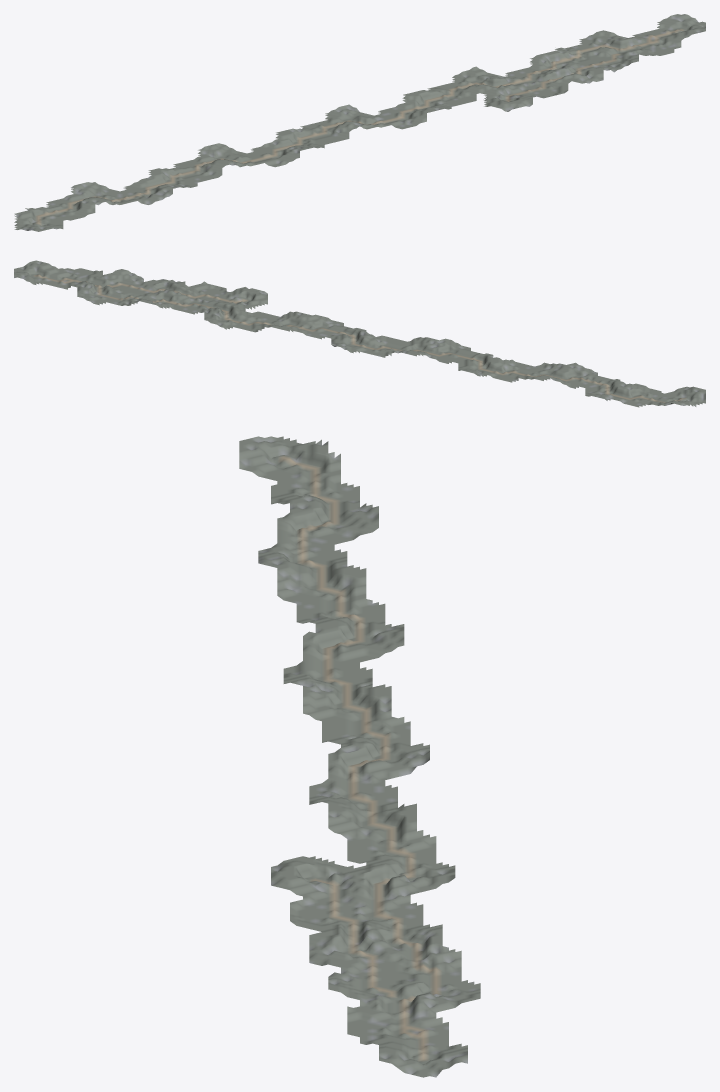
Rendered from terrain.glb.
The picture shows the model from 3 angles, top to bottom: view 1: azimuth 30°, elevation 25°; view 2: azimuth 150°, elevation 25°; view 3: azimuth 270°, elevation 25°; orthographic projection. The views are drawn at different scales.
Visible parts, largest first — view 1: NATURAL_14_-2, NATURAL_13_-2, NATURAL_15_-2, NATURAL_11_-2, NATURAL_3_-1, NATURAL_12_-2, NATURAL_1_-1, NATURAL_2_-1, NATURAL_12_-1, NATURAL_4_-1, NATURAL_10_-2, NATURAL_8_-2 (+13 smaller); view 2: NATURAL_1_-1, NATURAL_11_-2, NATURAL_15_-2, NATURAL_6_-1, NATURAL_2_-1, NATURAL_16_-2, NATURAL_11_-1, NATURAL_5_-1, NATURAL_13_-2, NATURAL_12_-2, NATURAL_14_-2, NATURAL_12_-1 (+16 smaller); view 3: NATURAL_14_-2, NATURAL_15_-2, NATURAL_11_-2, NATURAL_3_-1, NATURAL_5_-1, NATURAL_1_-1, NATURAL_12_-2, NATURAL_2_-1, NATURAL_11_-1, NATURAL_13_-2, NATURAL_12_-1, NATURAL_0_-1 (+15 smaller).
Part boxes in pixels (x1=…): NATURAL_14_-2: x1=547, y1=49, x2=630, y2=68; NATURAL_13_-2: x1=512, y1=54, x2=585, y2=80; NATURAL_15_-2: x1=590, y1=37, x2=673, y2=56; NATURAL_11_-2: x1=427, y1=79, x2=504, y2=100; NATURAL_3_-1: x1=131, y1=169, x2=200, y2=191; NATURAL_12_-2: x1=463, y1=71, x2=546, y2=87; NATURAL_1_-1: x1=46, y1=190, x2=122, y2=212; NATURAL_2_-1: x1=81, y1=185, x2=165, y2=202; NATURAL_12_-1: x1=505, y1=79, x2=568, y2=98; NATURAL_4_-1: x1=166, y1=160, x2=232, y2=181; NATURAL_10_-2: x1=399, y1=90, x2=461, y2=109; NATURAL_8_-2: x1=307, y1=107, x2=376, y2=131; NATURAL_1_-1: x1=607, y1=379, x2=645, y2=407; NATURAL_11_-2: x1=226, y1=304, x2=264, y2=332; NATURAL_15_-2: x1=74, y1=269, x2=112, y2=297; NATURAL_6_-1: x1=417, y1=337, x2=455, y2=362; NATURAL_2_-1: x1=569, y1=367, x2=607, y2=396; NATURAL_16_-2: x1=36, y1=260, x2=74, y2=286; NATURAL_11_-1: x1=226, y1=288, x2=264, y2=315; NATURAL_5_-1: x1=455, y1=342, x2=493, y2=371; NATURAL_13_-2: x1=150, y1=286, x2=188, y2=312; NATURAL_12_-2: x1=188, y1=297, x2=226, y2=324; NATURAL_14_-2: x1=112, y1=276, x2=150, y2=301; NATURAL_12_-1: x1=188, y1=281, x2=226, y2=303; NATURAL_14_-2: x1=360, y1=935, x2=436, y2=995; NATURAL_15_-2: x1=360, y1=982, x2=436, y2=1037; NATURAL_11_-2: x1=360, y1=830, x2=436, y2=886; NATURAL_3_-1: x1=283, y1=557, x2=359, y2=606; NATURAL_5_-1: x1=283, y1=623, x2=359, y2=680; NATURAL_1_-1: x1=283, y1=483, x2=359, y2=533; NATURAL_12_-2: x1=360, y1=868, x2=436, y2=925; NATURAL_2_-1: x1=283, y1=511, x2=359, y2=567; NATURAL_11_-1: x1=283, y1=851, x2=359, y2=899; NATURAL_13_-2: x1=360, y1=910, x2=436, y2=961; NATURAL_12_-1: x1=290, y1=882, x2=359, y2=931; NATURAL_0_-1: x1=283, y1=441, x2=340, y2=494.
Bounding box in the file's own units: 387 × 2.9 × 61.56.
